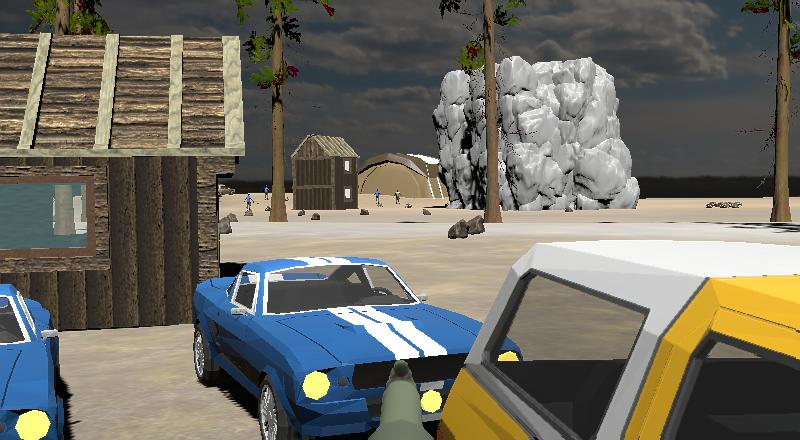House: (1, 31, 241, 331), (289, 132, 359, 210)
Human: (243, 191, 255, 218), (373, 188, 384, 207), (393, 189, 402, 206), (263, 183, 271, 200)
car: (434, 237, 796, 440), (190, 252, 496, 439), (190, 253, 497, 439), (0, 272, 69, 439)
